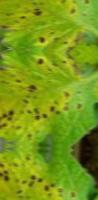Tomato Septoria leaf spot: (0, 44, 98, 156)
